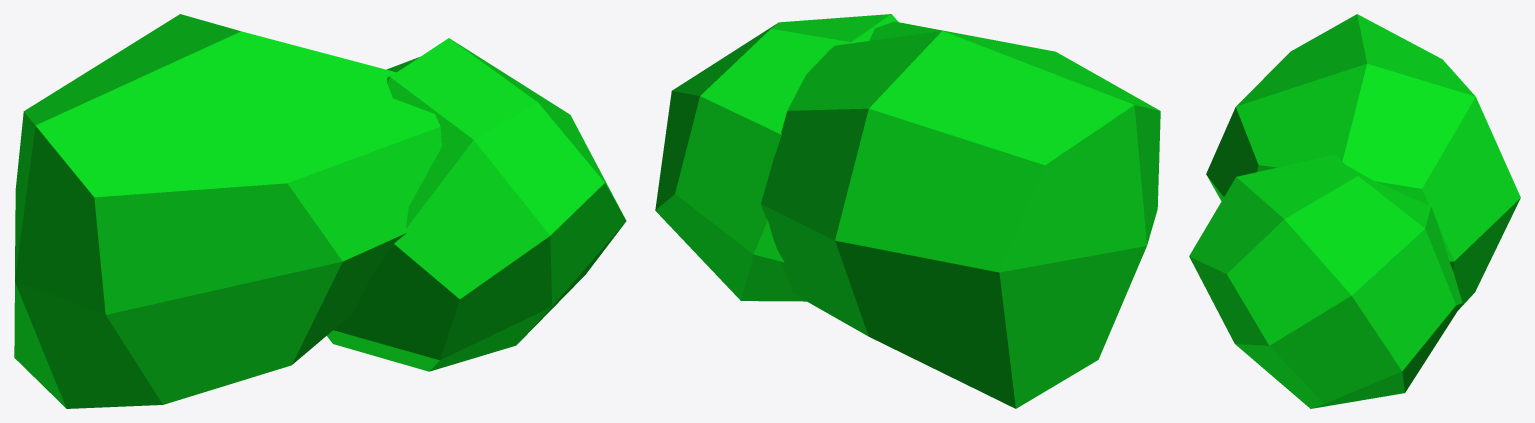
File: NewBush2.fbx
The picture shows the model from 3 angles, left to right: view 1: azimuth 30°, elevation 25°; view 2: azimuth 150°, elevation 25°; view 3: azimuth 270°, elevation 25°; orthographic projection. The views are drawn at different scales.
Visible parts, largest first — view 1: bush2; view 2: bush2; view 3: bush2.
Part boxes in pixels (bbox=[...]): bush2: bbox=[14, 14, 626, 408]; bush2: bbox=[655, 14, 1160, 408]; bush2: bbox=[1189, 14, 1520, 408].
Size of the model in its own units: 55.65 by 33.32 by 38.77.
